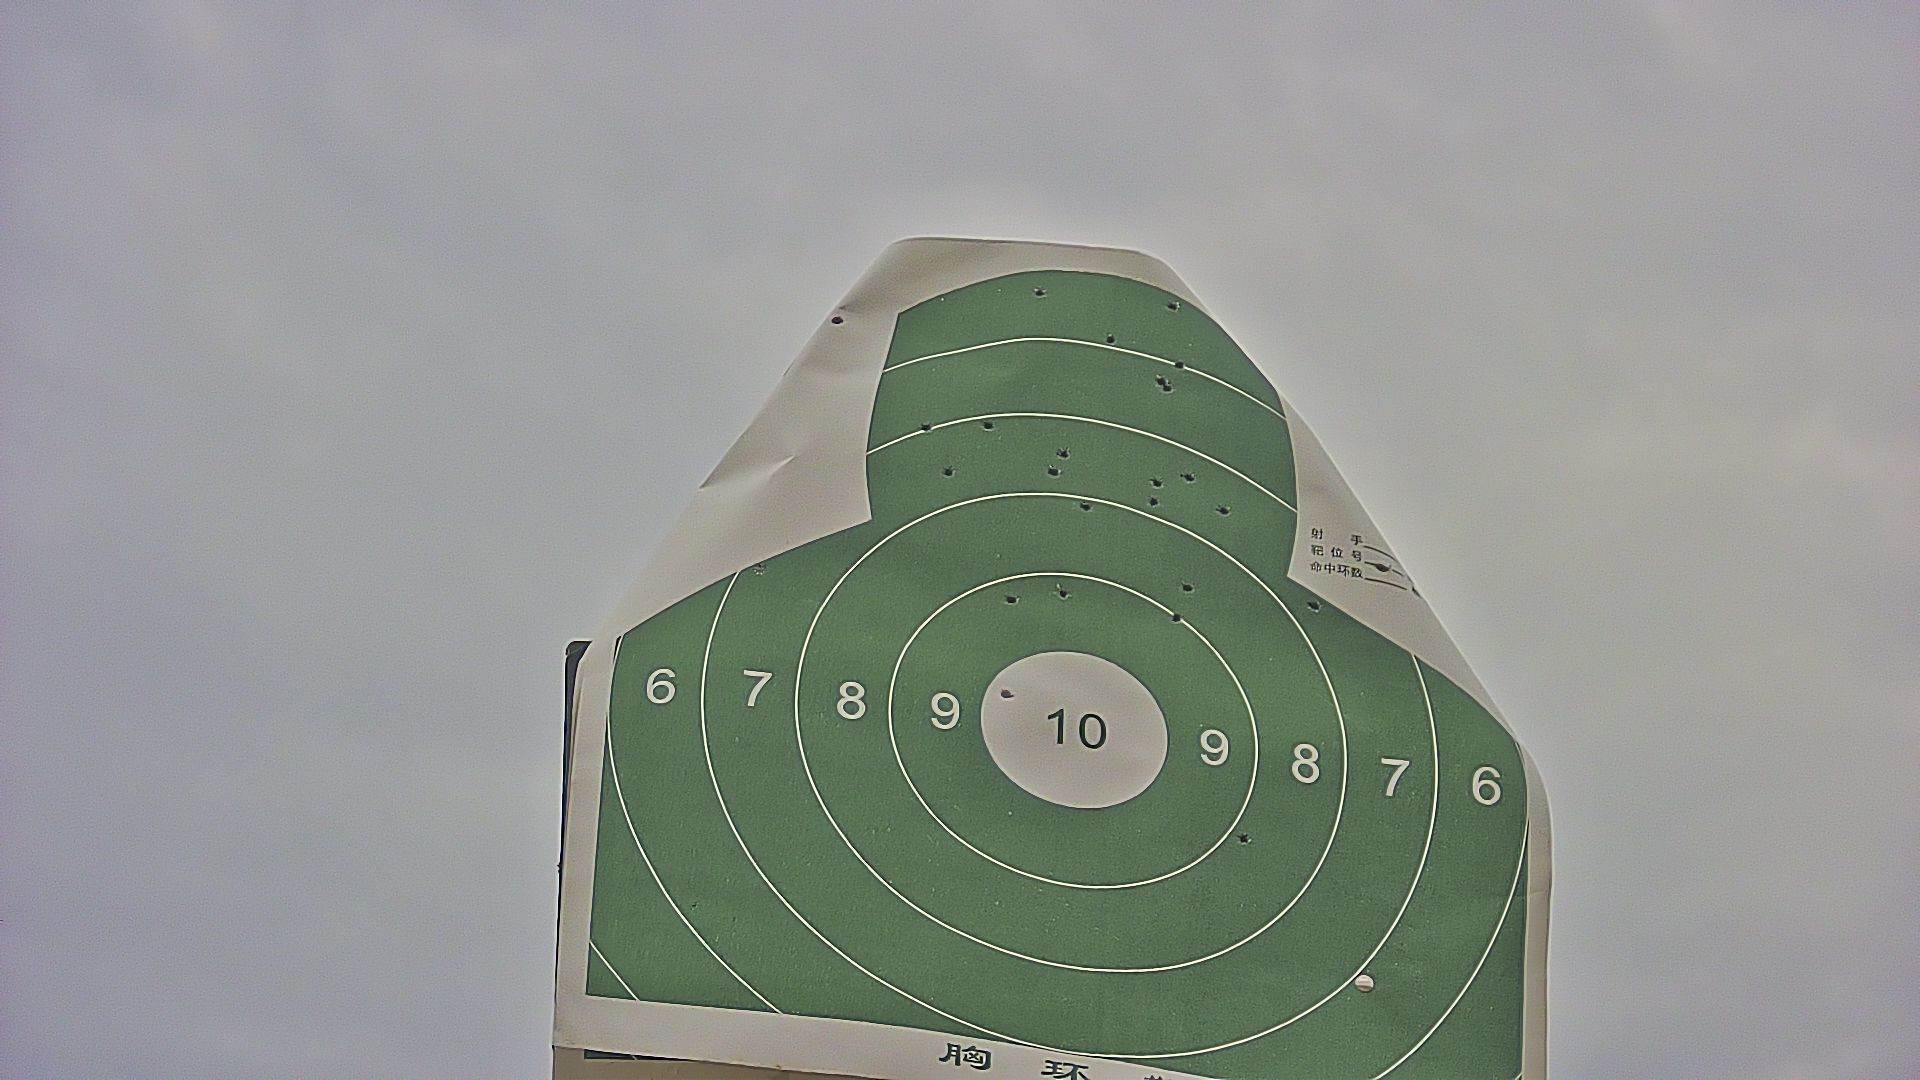hole: (980, 417, 996, 433), (1004, 592, 1022, 605), (752, 564, 769, 578), (1305, 597, 1323, 609), (1056, 587, 1069, 601), (1237, 829, 1250, 844), (1033, 286, 1048, 298), (1182, 580, 1195, 593), (1055, 446, 1069, 458), (1000, 686, 1011, 700), (920, 421, 934, 433), (1180, 471, 1193, 483), (1215, 504, 1228, 516), (1170, 611, 1182, 622), (1163, 381, 1174, 394), (1147, 495, 1158, 508), (943, 464, 953, 476), (1047, 465, 1059, 476), (1081, 498, 1091, 512), (1168, 298, 1178, 310), (1153, 476, 1162, 488), (1176, 359, 1184, 371), (1156, 375, 1164, 386), (1106, 334, 1114, 344)
kernel: (1067, 728, 1073, 732)
target: (582, 261, 1530, 1080)
ten: (977, 645, 1168, 808)
